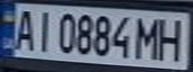0: (54, 9, 78, 55)
4: (112, 12, 136, 59)
8: (90, 11, 115, 57), (72, 10, 93, 56)
A: (9, 6, 39, 52)
H: (154, 15, 190, 62)
I: (30, 7, 57, 53)
M: (133, 14, 163, 61)
